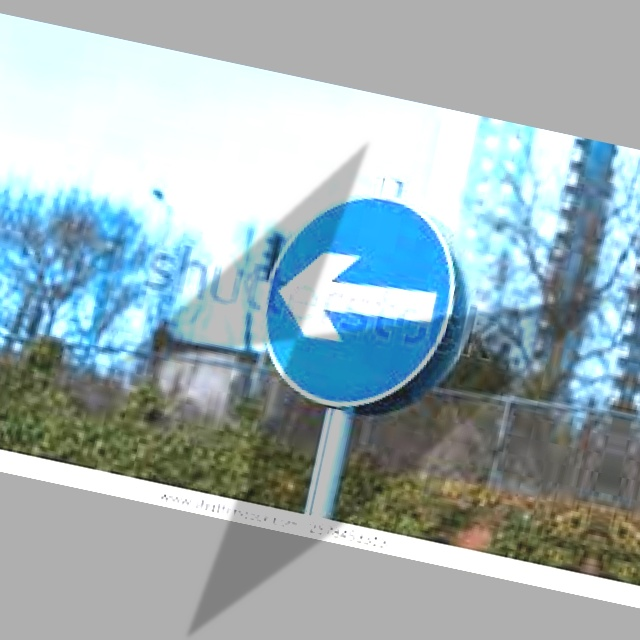Compulsory_Turn_Left: (243, 175, 484, 437)
